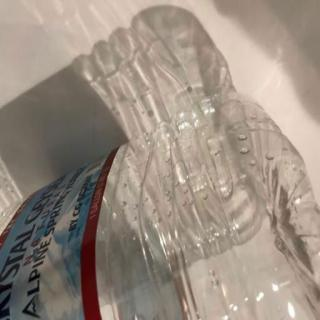Plastic-bottle: (1, 100, 320, 320)
